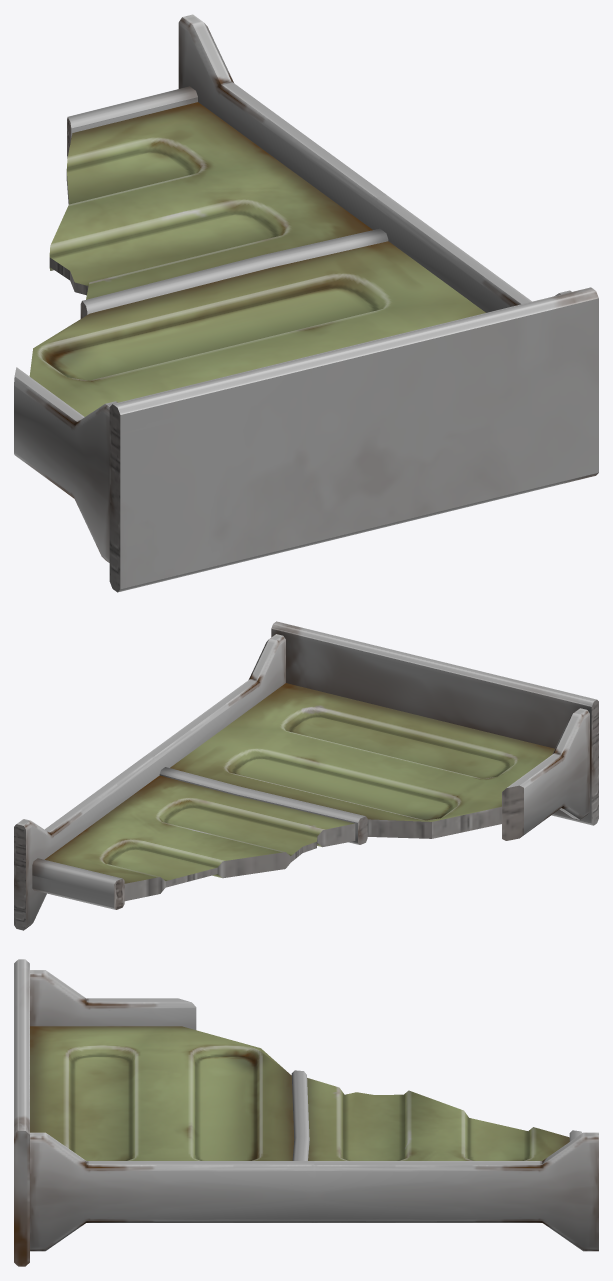
The model's file is HubWall9.FBX.
The picture shows the model from 3 angles, top to bottom: view 1: azimuth 30°, elevation 25°; view 2: azimuth 150°, elevation 25°; view 3: azimuth 270°, elevation 25°; orthographic projection. The views are drawn at different scales.
Visible parts, largest first — view 1: HubWall9_LOD0; view 2: HubWall9_LOD0; view 3: HubWall9_LOD0.
Boxes of the visible parts, x1,y1,x2,y2 form: HubWall9_LOD0: (14,14,598,592); HubWall9_LOD0: (14,621,598,930); HubWall9_LOD0: (14,959,598,1266).
Size of what is drawn, in the model's own units: 5.24 by 1.94 by 7.57.
